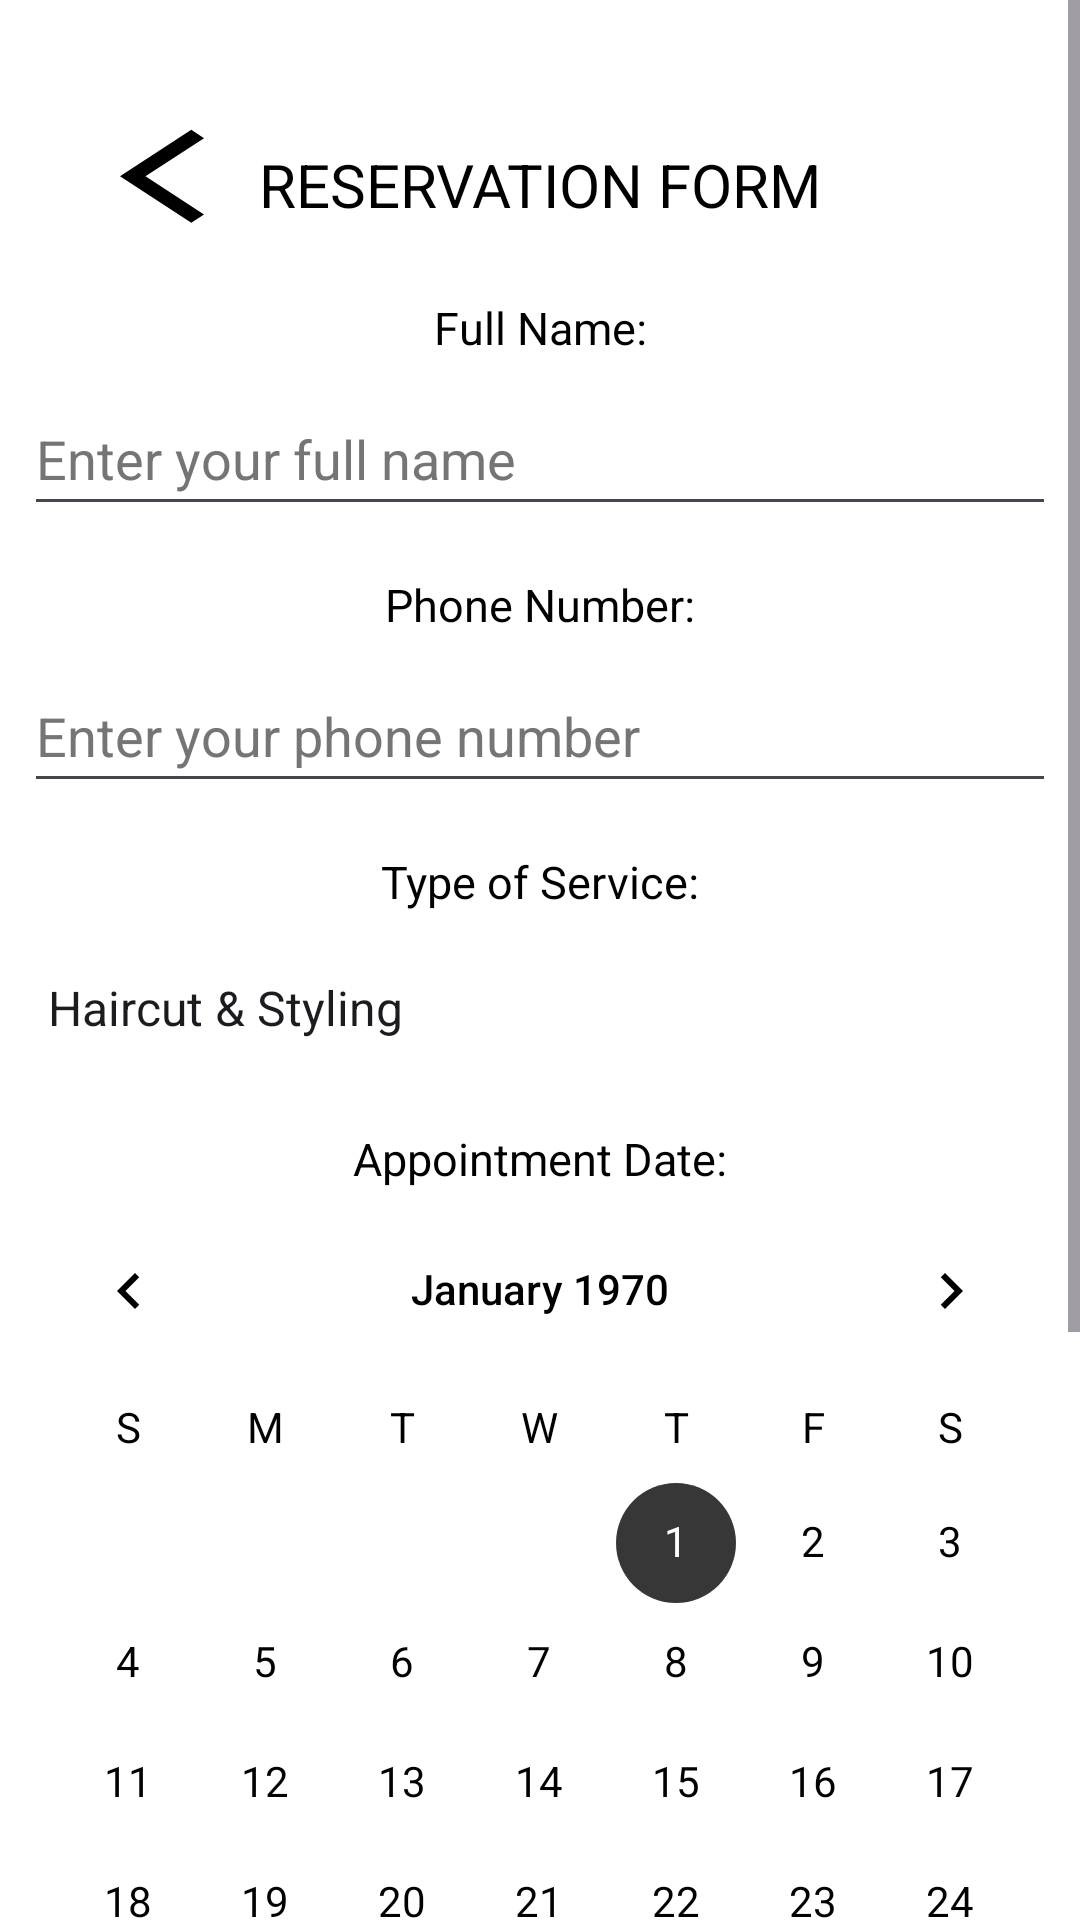

Where icons sit on this 1080*1920 app screen, as (x1, y1, x2, y2):
back button: (120, 129, 204, 223)
